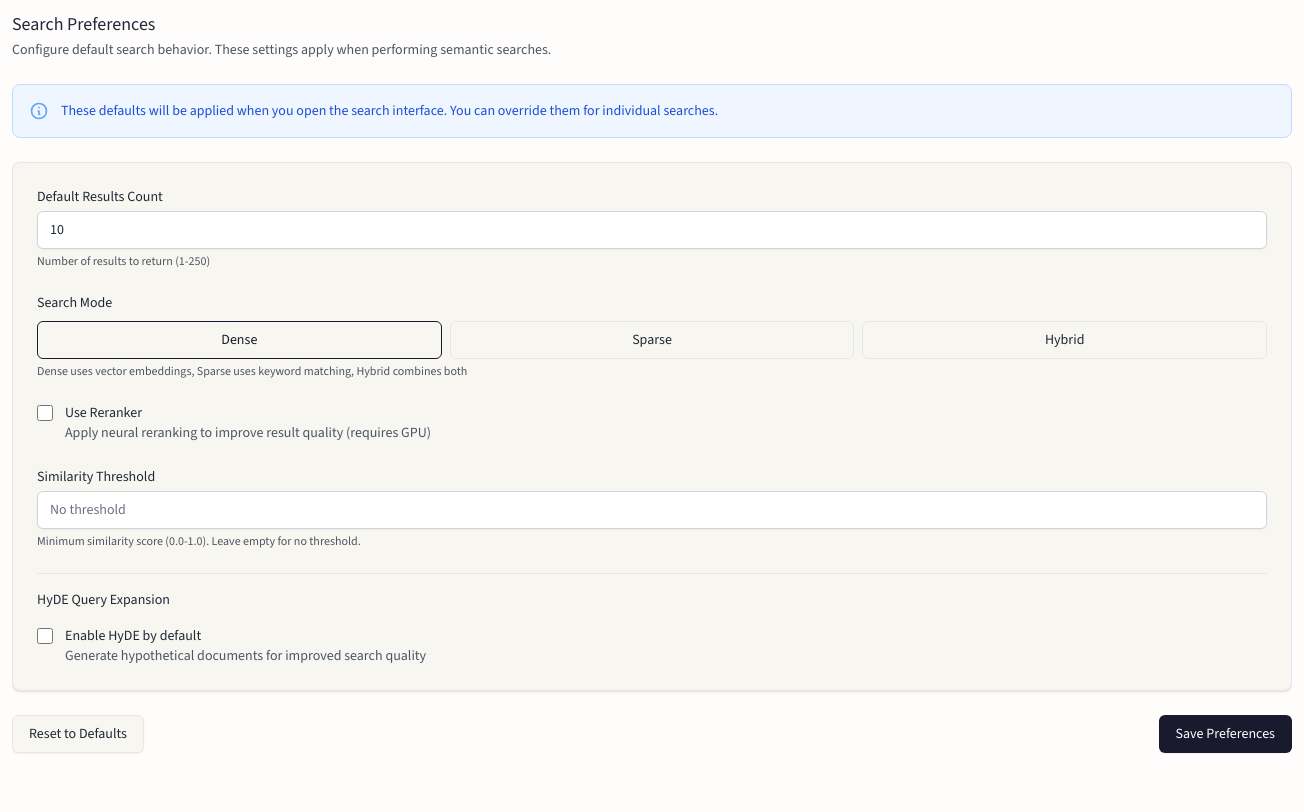
Test: SearchPreferencesSettings › form interactions › updates top_k value
Click the 1st number field at (652, 230), box [37,211,1267,249]
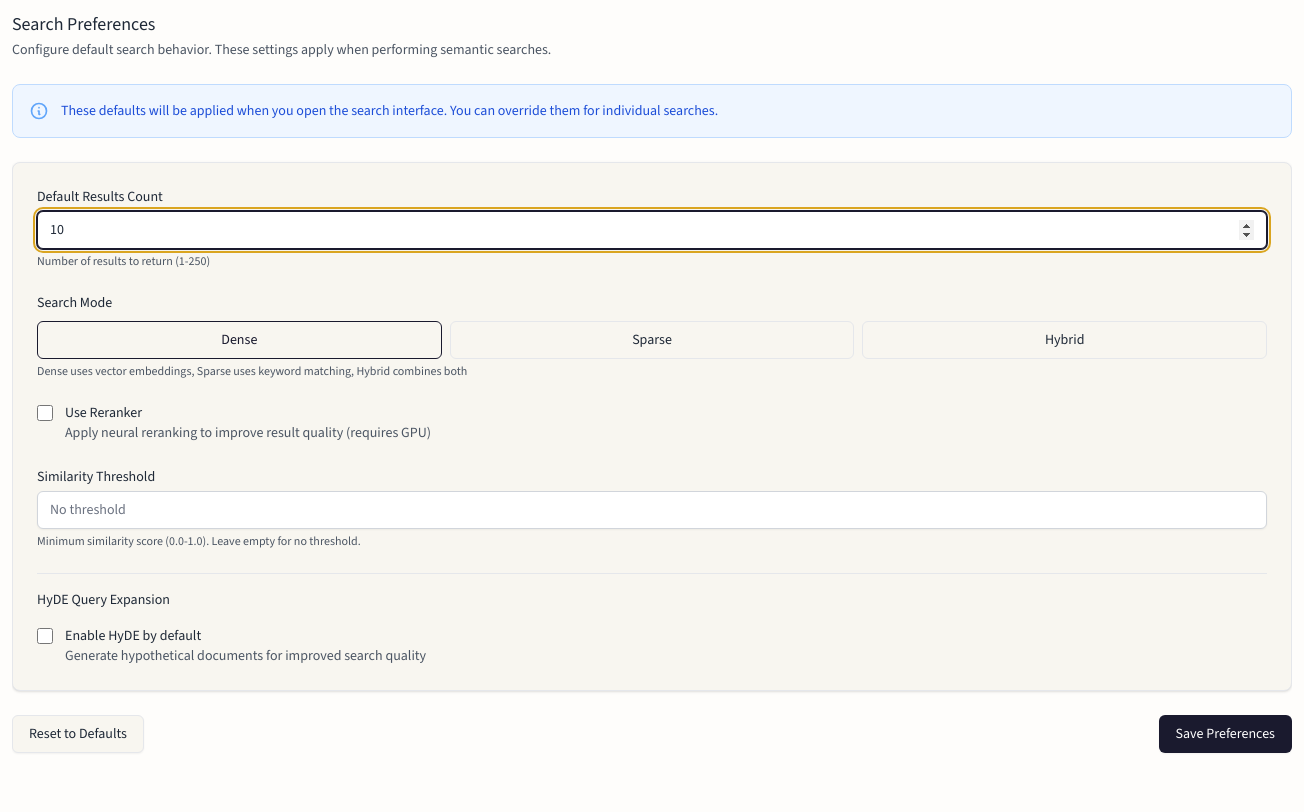
Type keys "25"
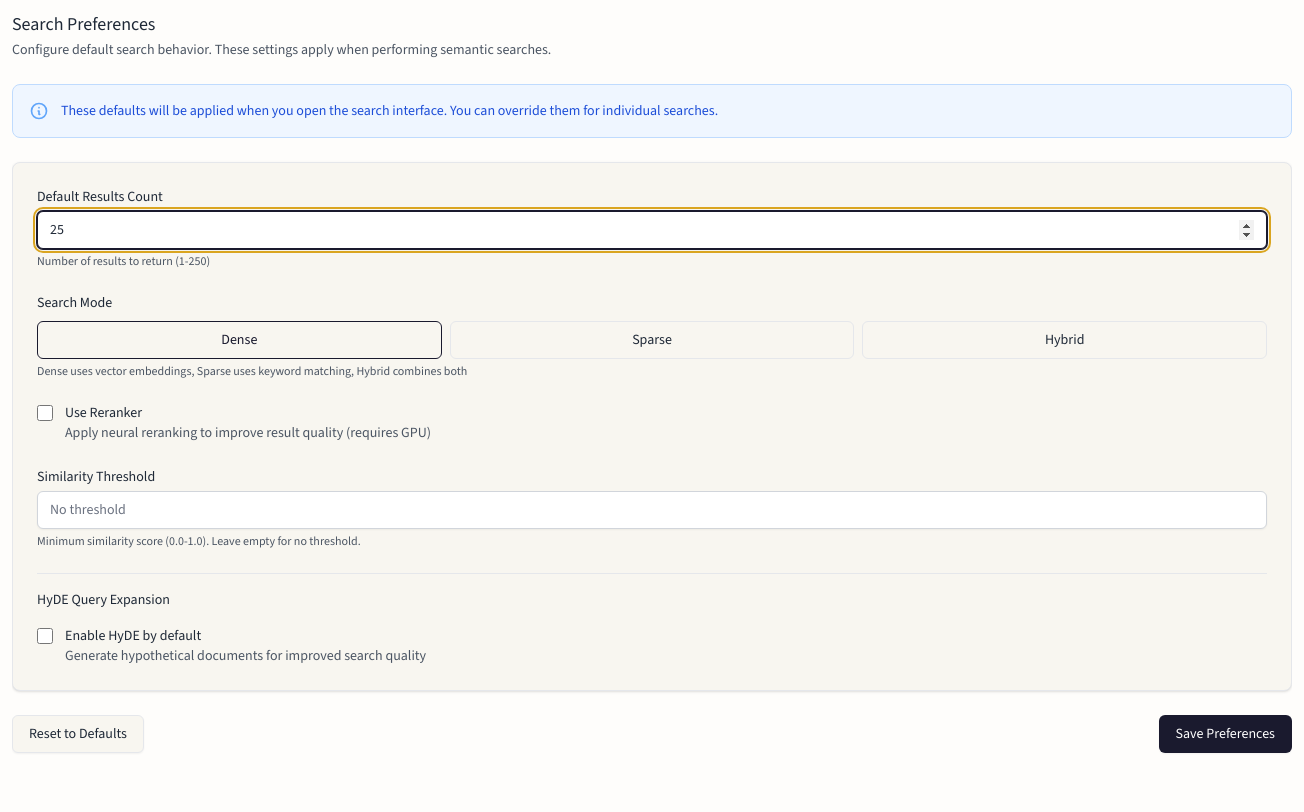
Now the 1st number field holds "25", box [37,211,1267,249]
